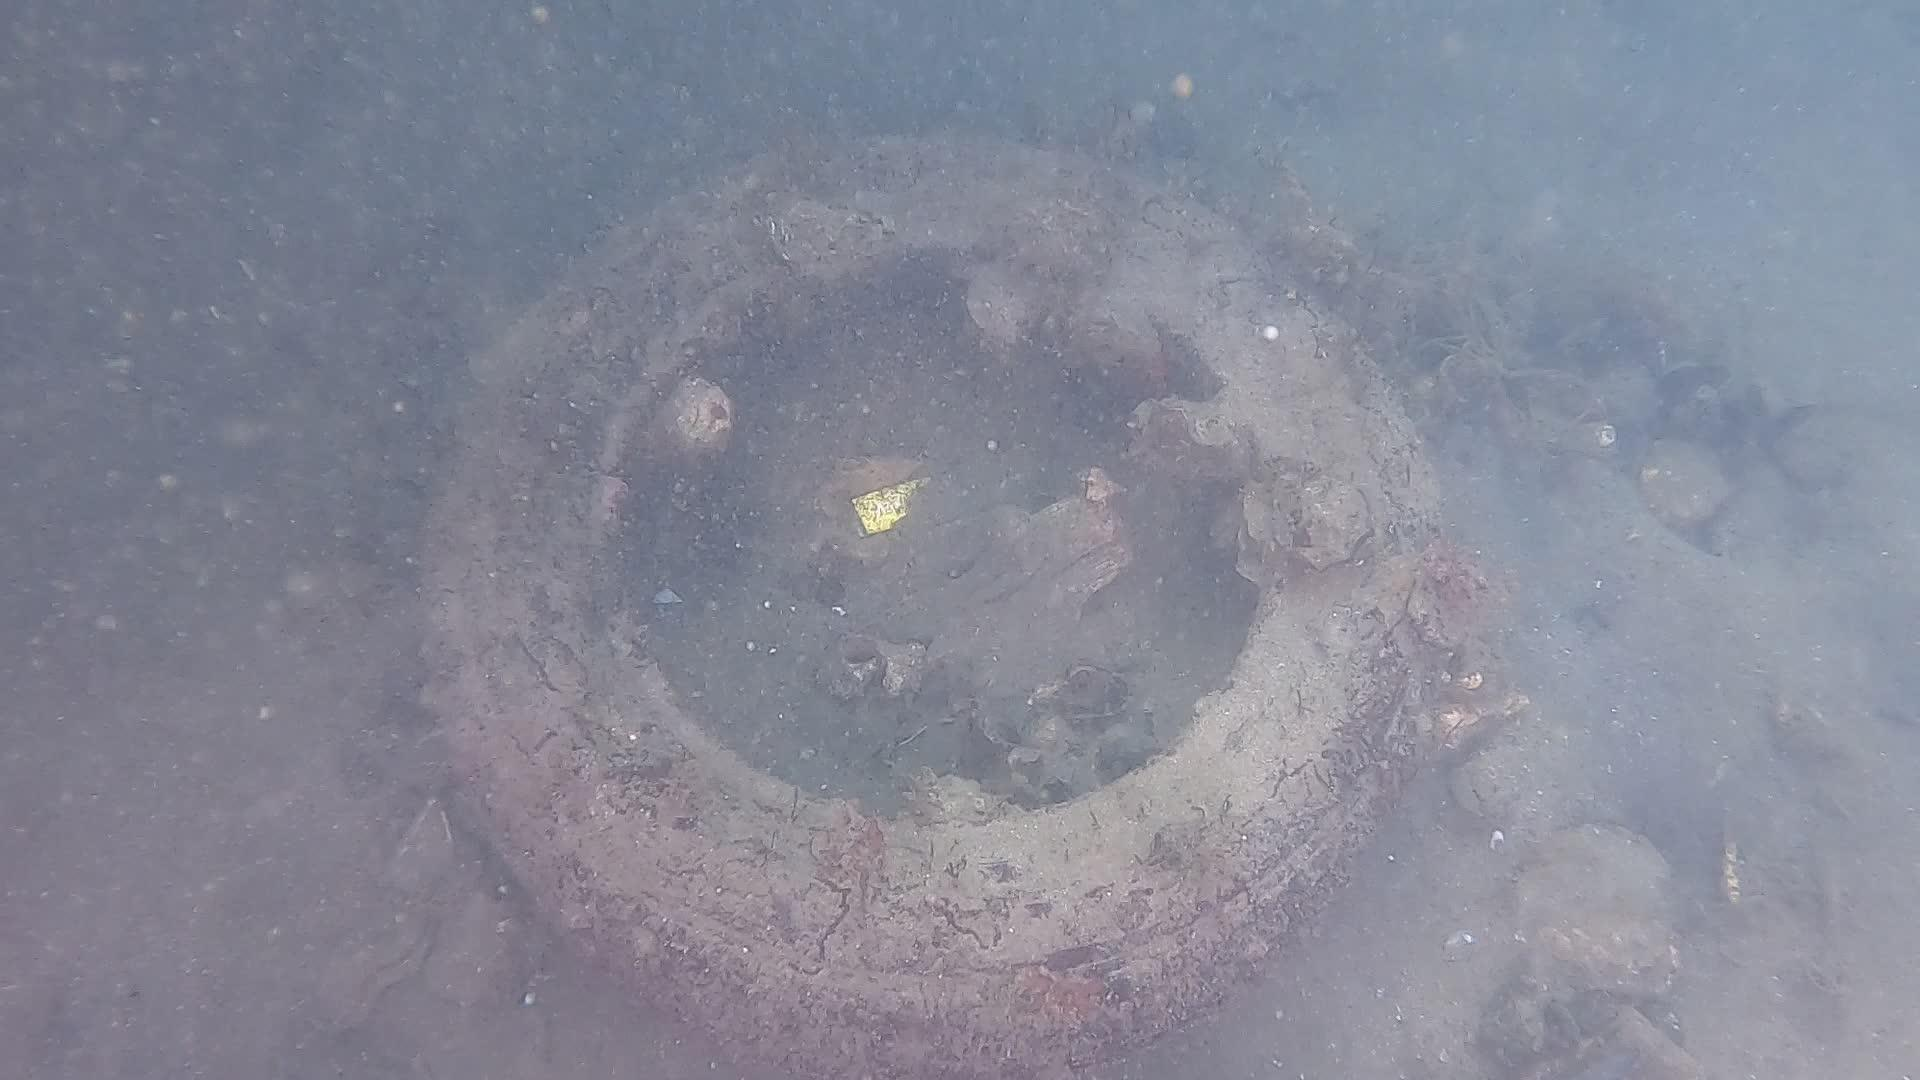tire: (411, 127, 1445, 1080)
